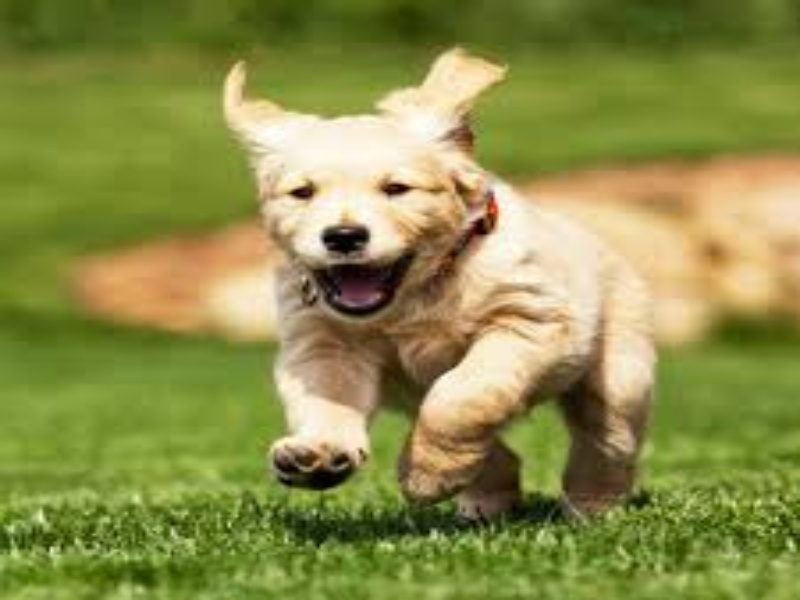dog: (204, 27, 664, 516)
